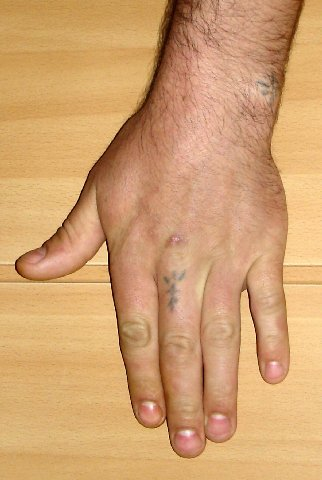tatu9_krest: (158, 267, 189, 312)
